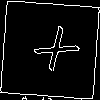X: (25, 25, 81, 81)
